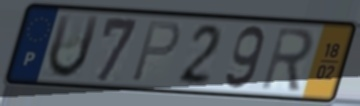2: (174, 22, 225, 87)
7: (96, 14, 142, 84)
9: (223, 23, 266, 90)
P: (128, 19, 184, 84)
R: (258, 25, 315, 94)
U: (45, 12, 103, 82)
